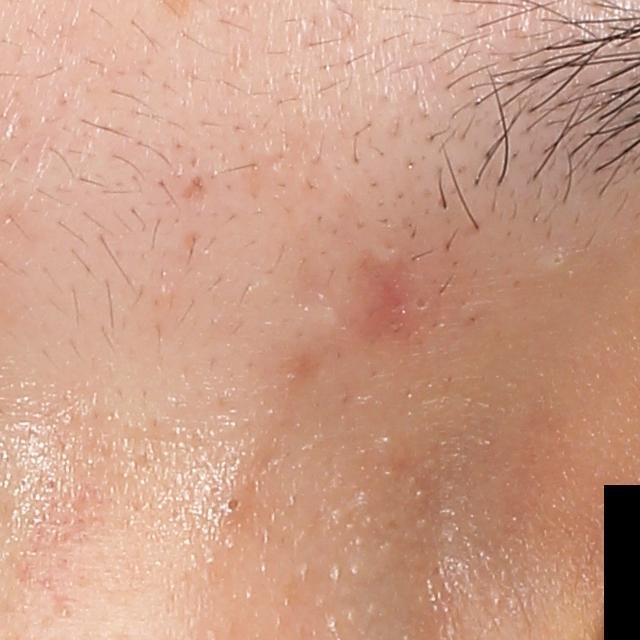atrophic_scar: (181, 174, 208, 206)
comedo: (219, 489, 252, 524), (540, 250, 572, 275), (410, 295, 433, 314)
